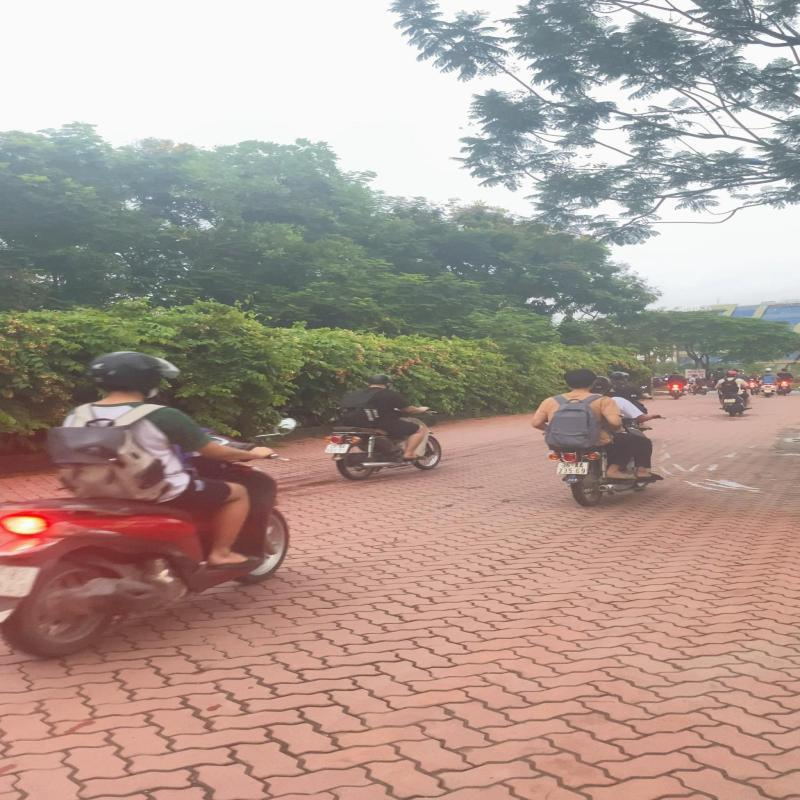helmet: (590, 376, 612, 394)
licenseplate: (555, 461, 591, 476)
motorcyclist: (529, 366, 668, 507)
nohelmet: (565, 368, 595, 391)
